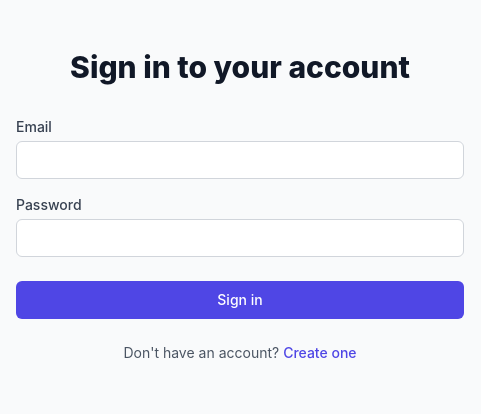
LoginPage › renders a generic message on 500
Type "a@b.com" into the field labelled "Email" at (240, 160), box x1=16 y1=141 x2=464 y2=179
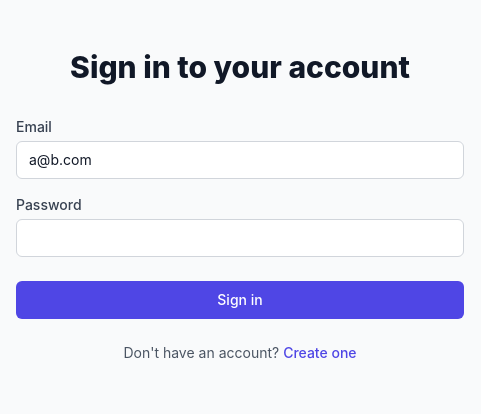
Type "whatever" into the password field labelled "Password" at (240, 238), box x1=16 y1=219 x2=464 y2=257
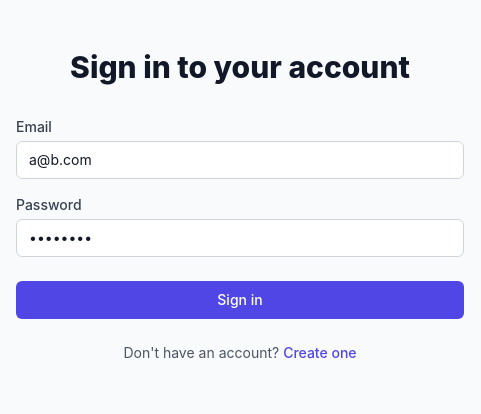
Click the button "Sign in" at (240, 300), box x1=16 y1=281 x2=464 y2=319
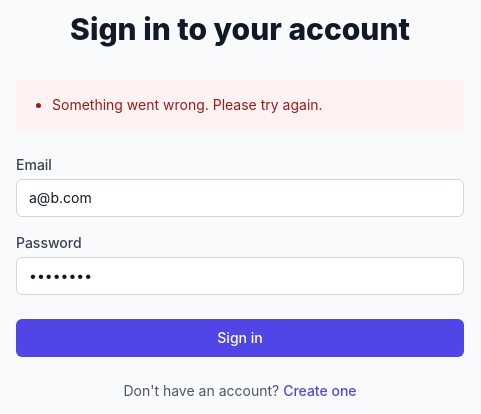
Expected: the message shows "Something went wrong", x1=52 y1=96 x2=323 y2=113
